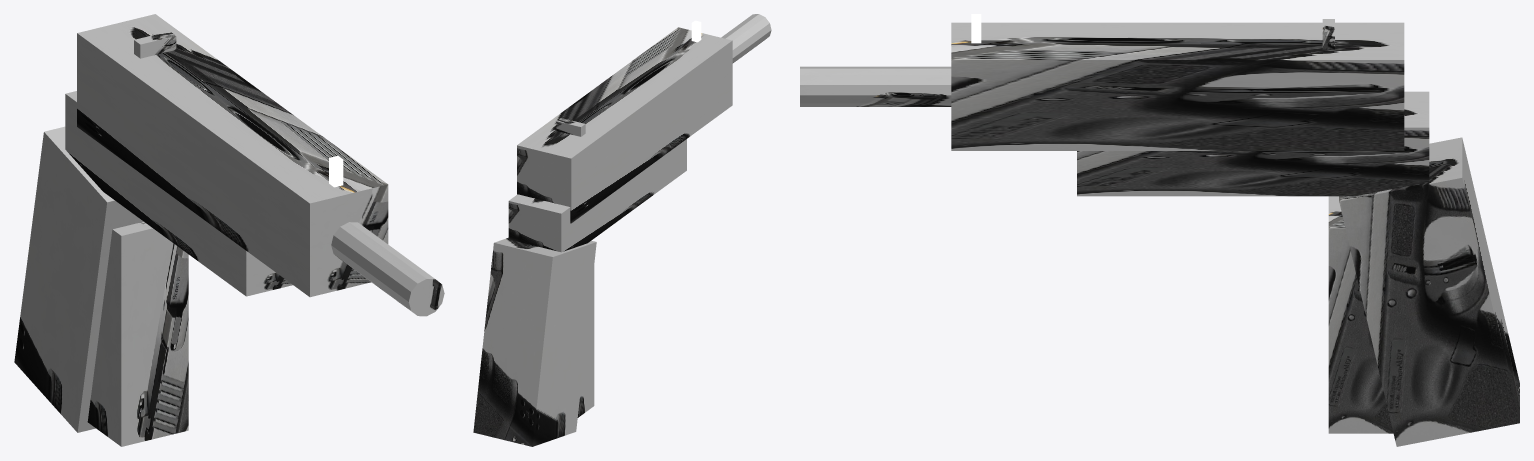
File: pistol.glb
3 views of the same model, side by side, from view 1: azimuth 30°, elevation 25°; view 2: azimuth 150°, elevation 25°; view 3: azimuth 270°, elevation 25° (orthographic). The views are drawn at different scales.
Parts seen in each view (by area): view 1: WeaponMesh, Mag.001; view 2: WeaponMesh, Mag.001; view 3: WeaponMesh, Mag.001.
Boxes of the visible parts, box(x1,y1,x2,y2) form: WeaponMesh: box(14, 14, 444, 432); Mag.001: box(87, 221, 188, 446); WeaponMesh: box(473, 14, 771, 446); Mag.001: box(577, 266, 594, 417); WeaponMesh: box(800, 14, 1519, 446); Mag.001: box(1328, 196, 1393, 433).
Size of the model in its own units: 0.038 by 0.18 by 0.2859.
4 materials, 3 textured.
